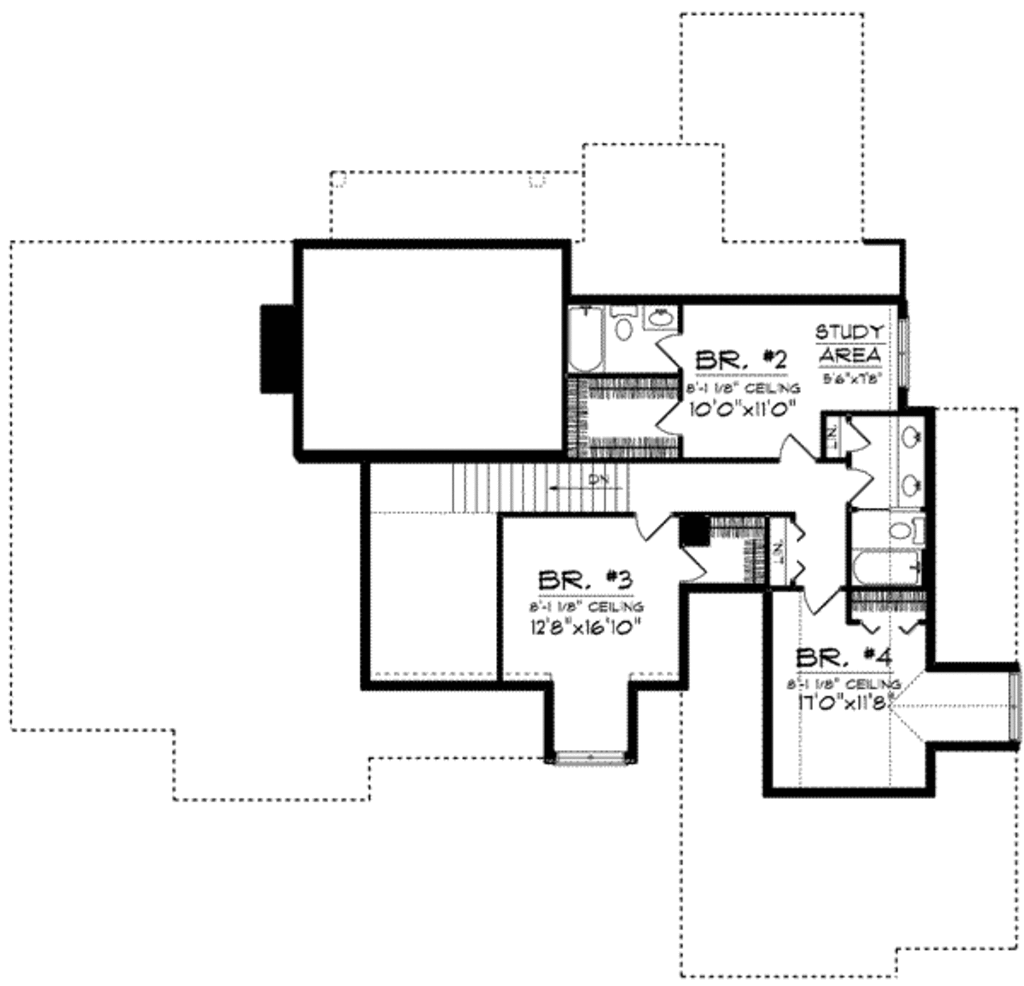door: (796, 578, 843, 615), (628, 512, 676, 547), (845, 456, 875, 509), (772, 431, 818, 463), (674, 546, 711, 584), (842, 415, 872, 459), (653, 396, 683, 437)
large_sink: (604, 304, 641, 349), (888, 509, 928, 547)
small_sink: (894, 415, 926, 510), (643, 298, 685, 335)
stairs: (442, 454, 636, 521)
tub: (562, 299, 610, 377), (843, 549, 925, 591)
windows: (889, 304, 914, 396), (546, 747, 632, 771), (1002, 664, 1024, 741)
